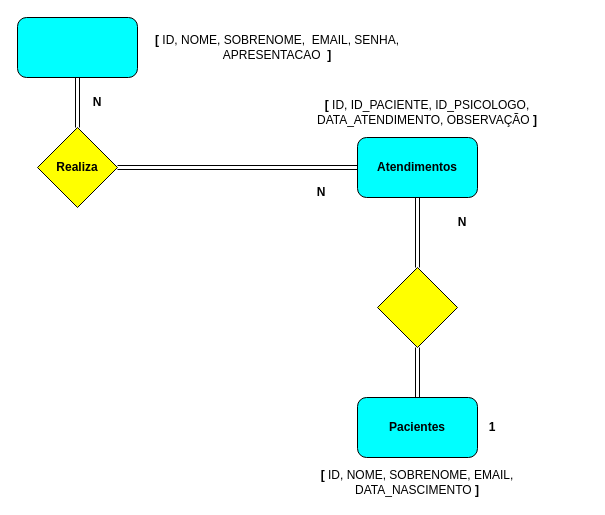
The diagram is 605 pixels wide and 515 high, and some of its shapes have lost their labels. Here are the shapes that lost their labels. From the top down, the box of each, then its label:
(16, 16, 138, 78): Psicólogos
(376, 266, 458, 348): Faz
